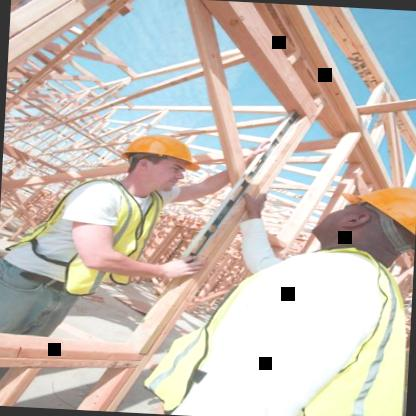helmet: (311, 167, 416, 264), (105, 122, 210, 198)
